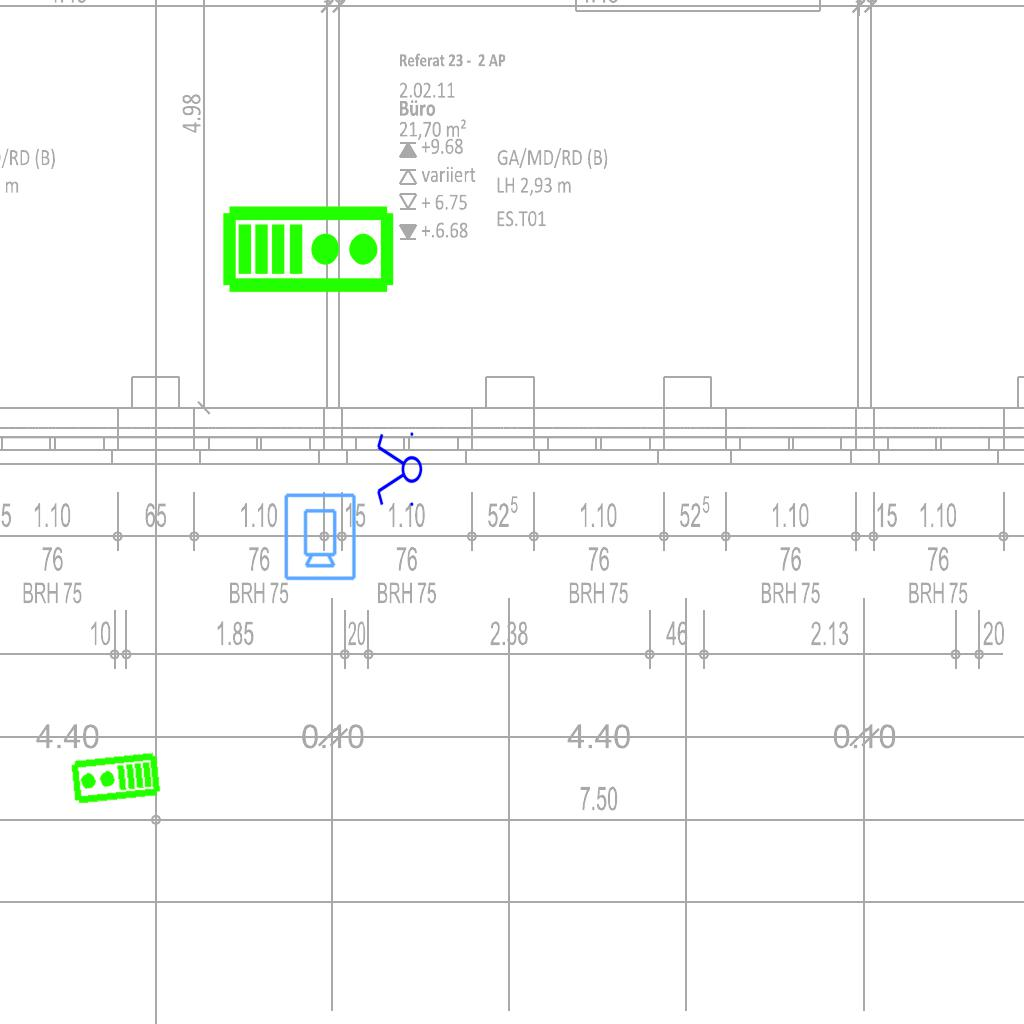Gegensprechanlage_mit_Video: (221, 200, 397, 295), (69, 751, 162, 807)
KFO_Kamera_mit_Festobjektiv: (281, 491, 358, 582)
Serienschalter: (375, 428, 423, 512)
